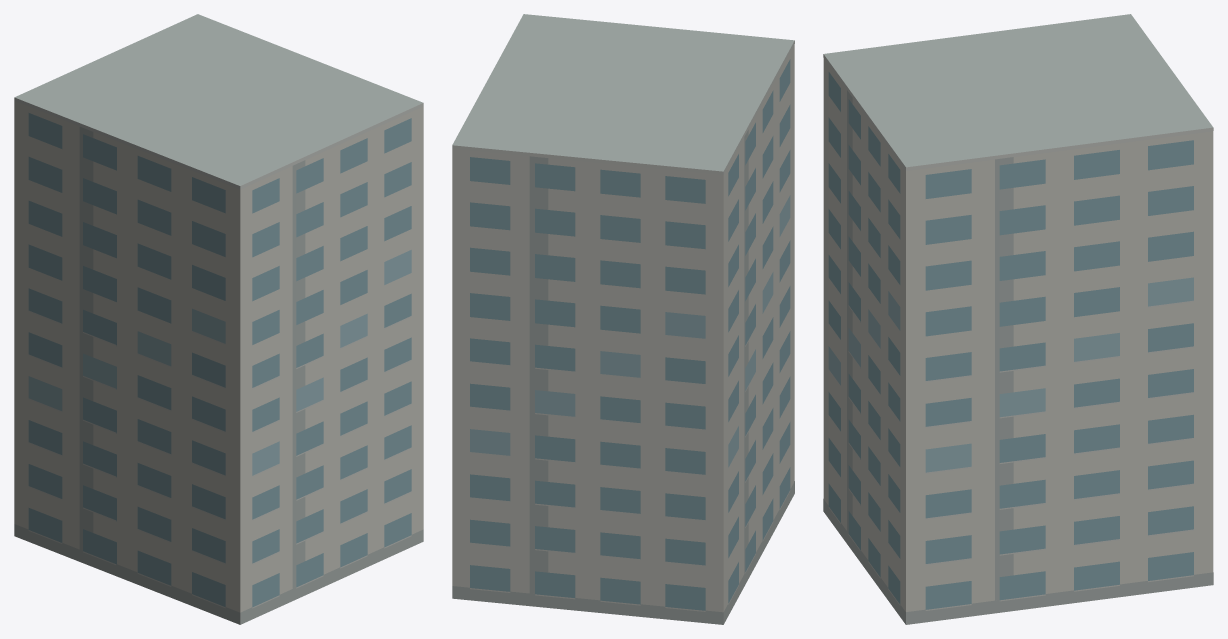
Rendered from residential-9eadb15c-f5b3-40e0-960d-457761fd2f4c.glb.
The picture shows the model from 3 angles, left to right: view 1: azimuth 30°, elevation 25°; view 2: azimuth 150°, elevation 25°; view 3: azimuth 270°, elevation 25°; orthographic projection. The views are drawn at different scales.
Visible parts, largest first — view 1: residential-9eadb15c-f5b3-40e0-960d-457761fd2f4c.tmp; view 2: residential-9eadb15c-f5b3-40e0-960d-457761fd2f4c.tmp; view 3: residential-9eadb15c-f5b3-40e0-960d-457761fd2f4c.tmp.
Part boxes in pixels (bbox=[...]): residential-9eadb15c-f5b3-40e0-960d-457761fd2f4c.tmp: bbox=[14, 14, 423, 624]; residential-9eadb15c-f5b3-40e0-960d-457761fd2f4c.tmp: bbox=[452, 14, 794, 624]; residential-9eadb15c-f5b3-40e0-960d-457761fd2f4c.tmp: bbox=[823, 14, 1213, 624].
Bounding box in the file's own units: 22.29 × 31 × 23.96.
